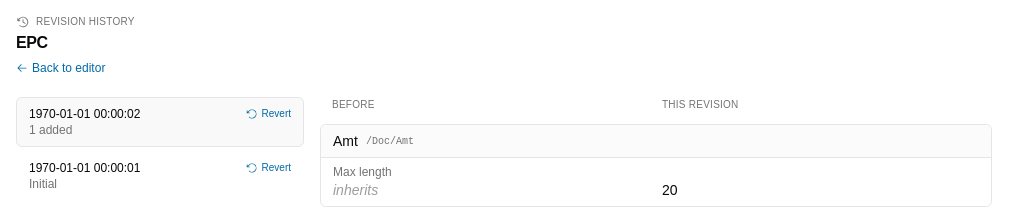
MigHistory › diffs the selected revision against its predecessor
The image size is (1009, 224).
expect the text "Amt" is shown: met, box [333, 131, 358, 151]
expect the text "Max length" is shown: met, box [333, 165, 392, 179]
# The baseline (oldest) has nothing before it.
Click the text "Initial" at (43, 184), box [29, 177, 57, 191]
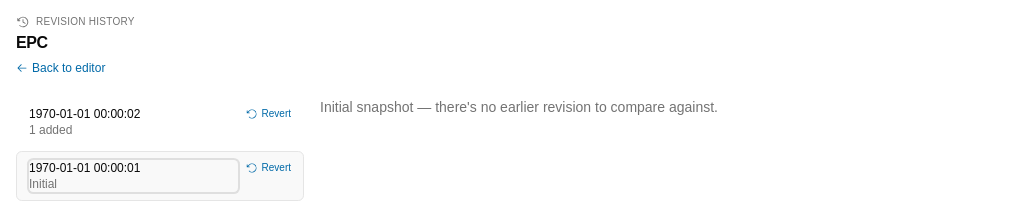
expect the text "Initial snapshot" is shown: met, box [320, 99, 718, 115]
expect the text "Max length" is gone: met
